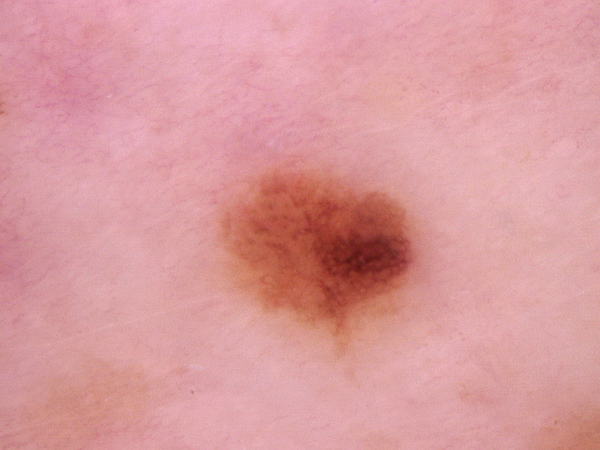Detected Lesion: (220, 158, 426, 339)
